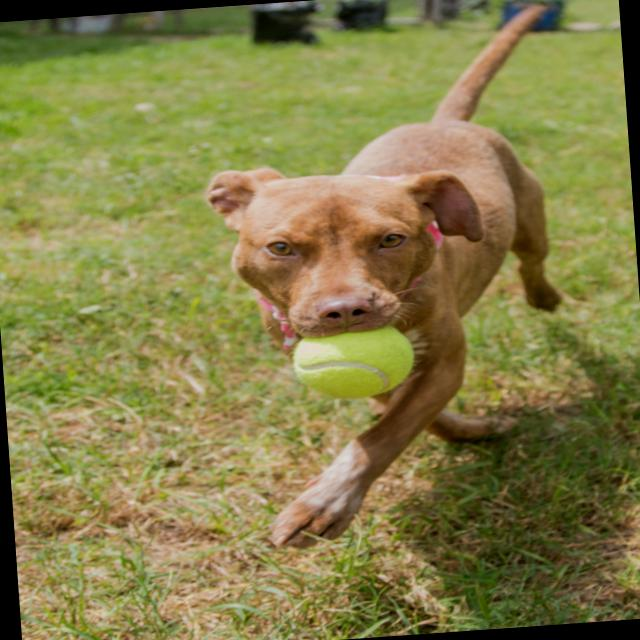Tennis Ball: (278, 318, 430, 400)
